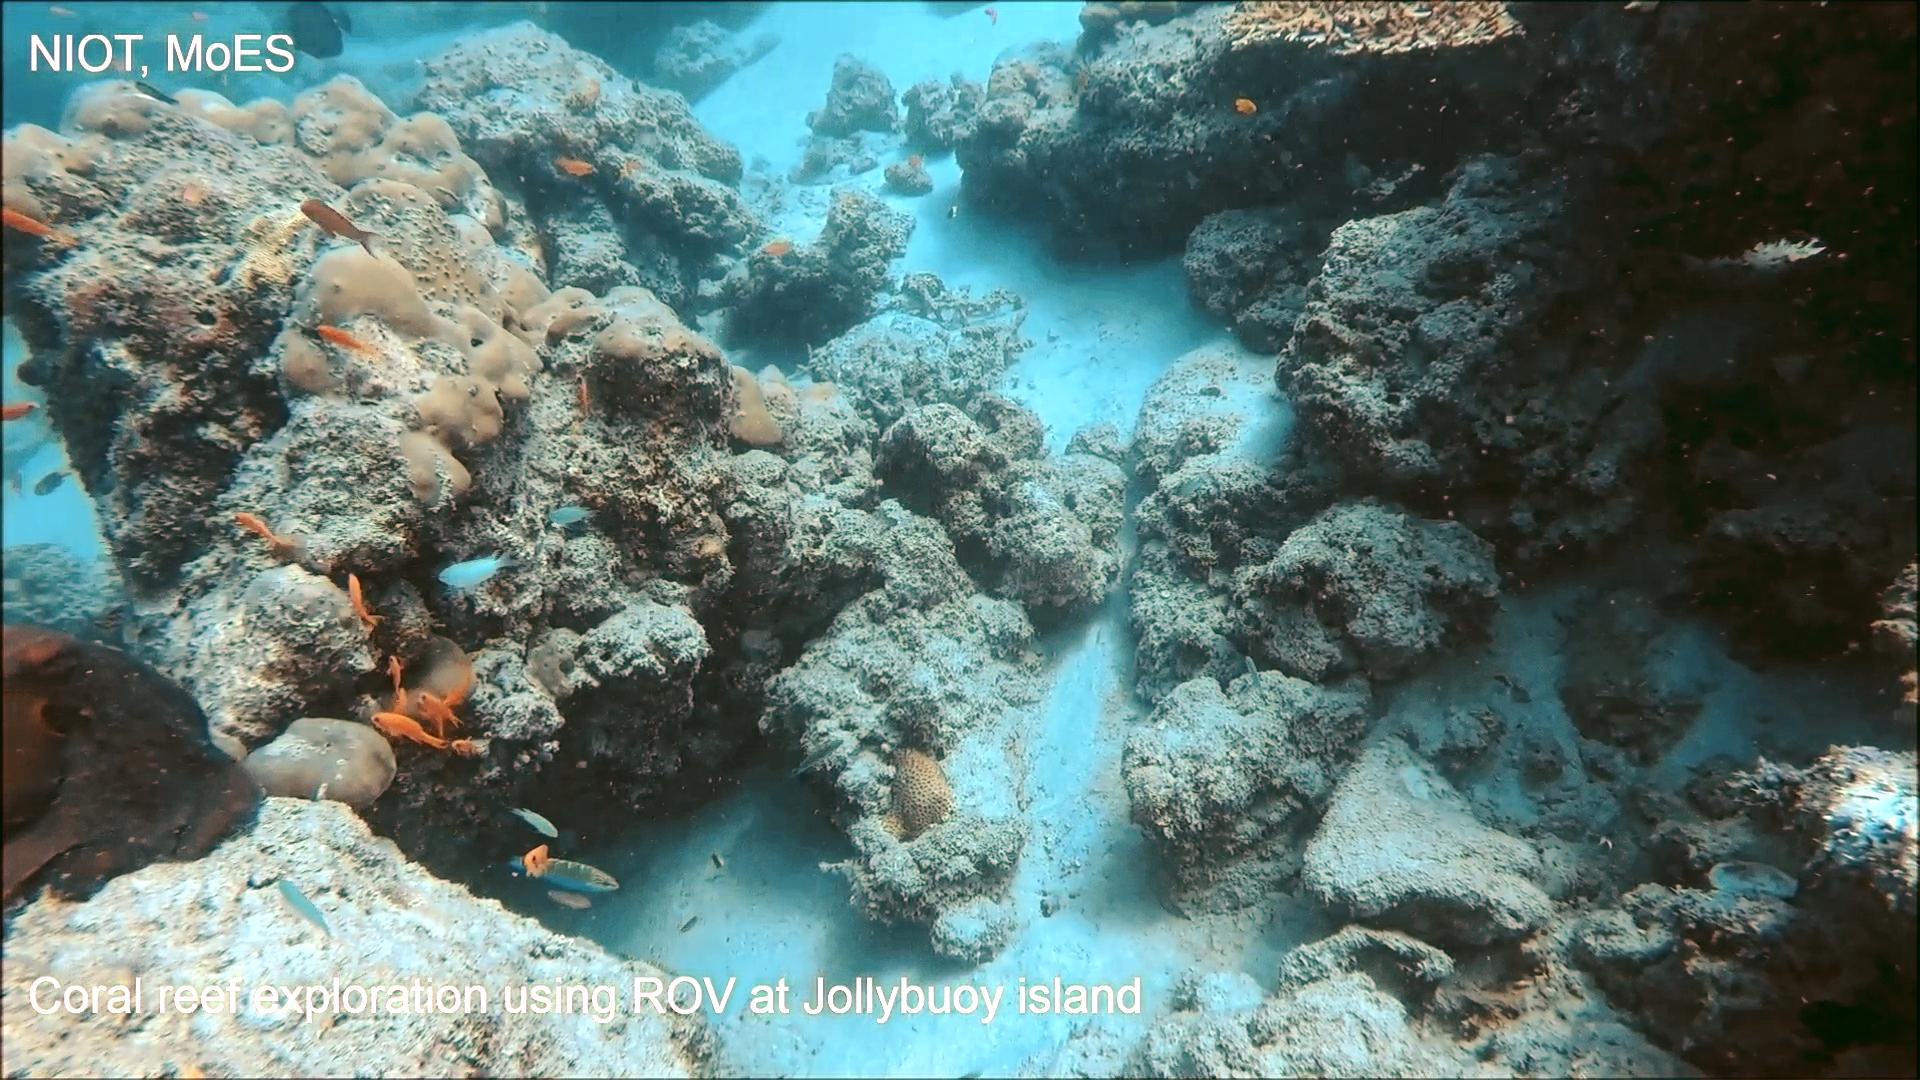Porites-Porites pukoensis: (262, 66, 608, 520)
